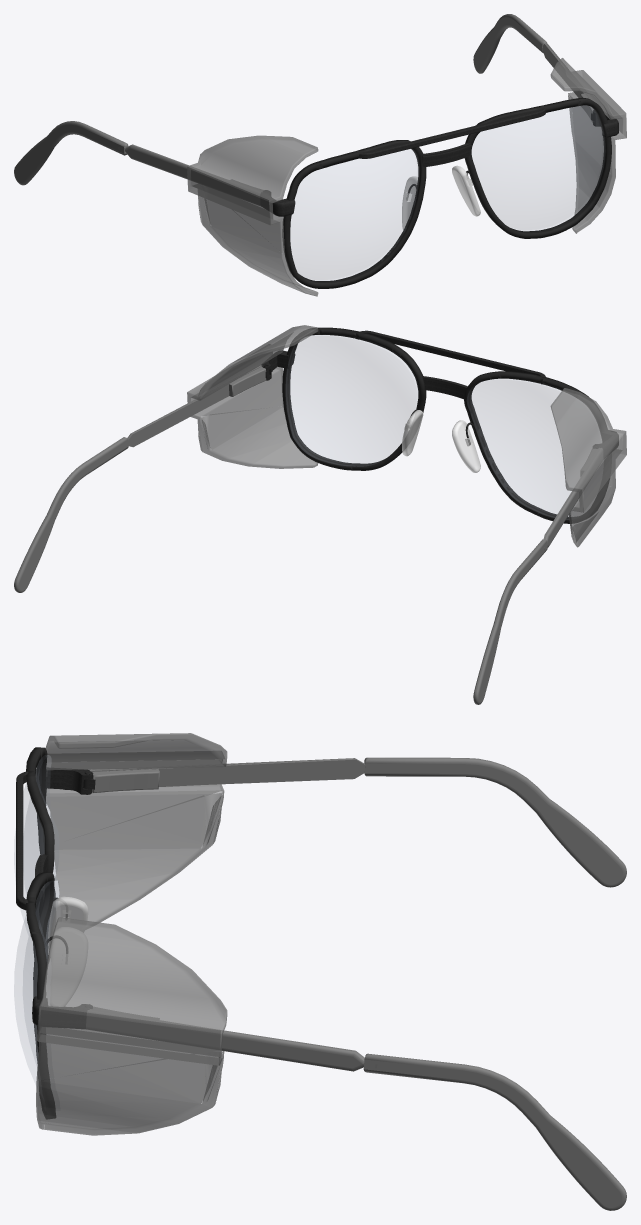
File: glasses_draco.glb
3 renders of one model, top to bottom at view 1: azimuth 30°, elevation 25°; view 2: azimuth 150°, elevation 25°; view 3: azimuth 270°, elevation 25°, orthographic. The views are drawn at different scales.
Visible parts, largest first — view 1: Group#4 (×2), Group#8 (×2), object 5; view 2: Group#4 (×2), Group#8 (×2), object 5; view 3: Group#8 (×2), Group#4 (×2), object 5.
Boxes of the visible parts, left/top/right/bottom form: Group#4 (×2): left=14, top=14, right=618, bottom=288; Group#8 (×2): left=187, top=58, right=626, bottom=296; object 5: left=359, top=107, right=546, bottom=158; Group#4 (×2): left=14, top=327, right=618, bottom=704; Group#8 (×2): left=187, top=325, right=626, bottom=547; object 5: left=356, top=330, right=545, bottom=384; Group#8 (×2): left=36, top=733, right=227, bottom=1135; Group#4 (×2): left=14, top=747, right=626, bottom=1210; object 5: left=16, top=771, right=28, bottom=910.
Bounding box in the file's own units: 0.1756 × 0.0546 × 0.1387.
Materials: 5 (1 with a texture image).
